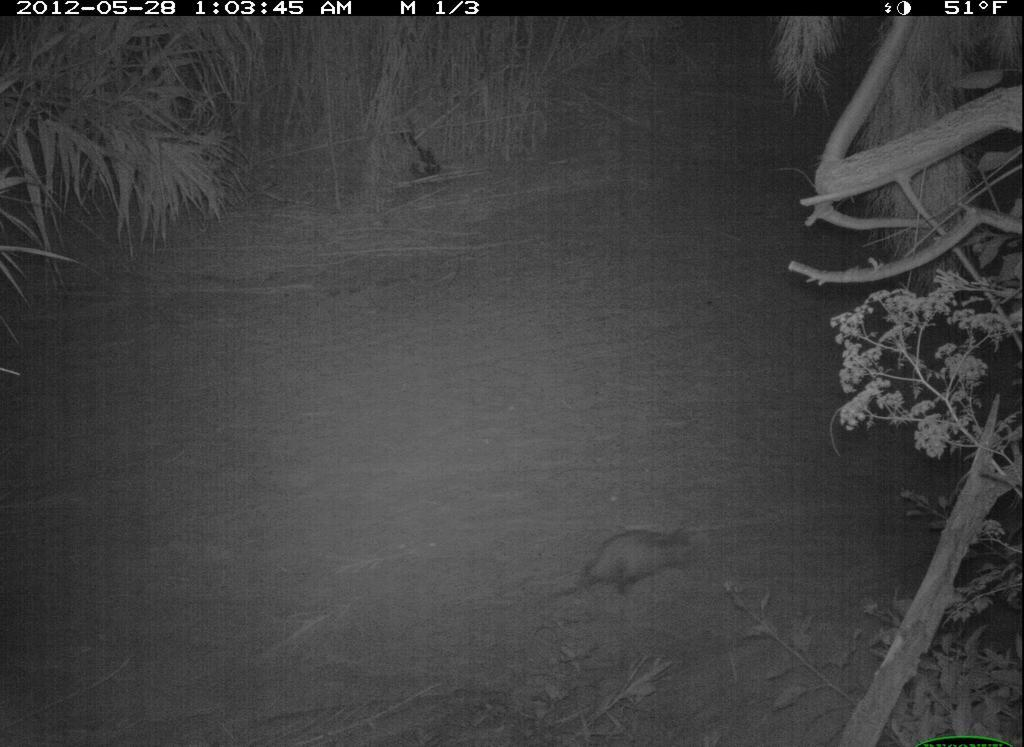opossum: (524, 515, 713, 603)
